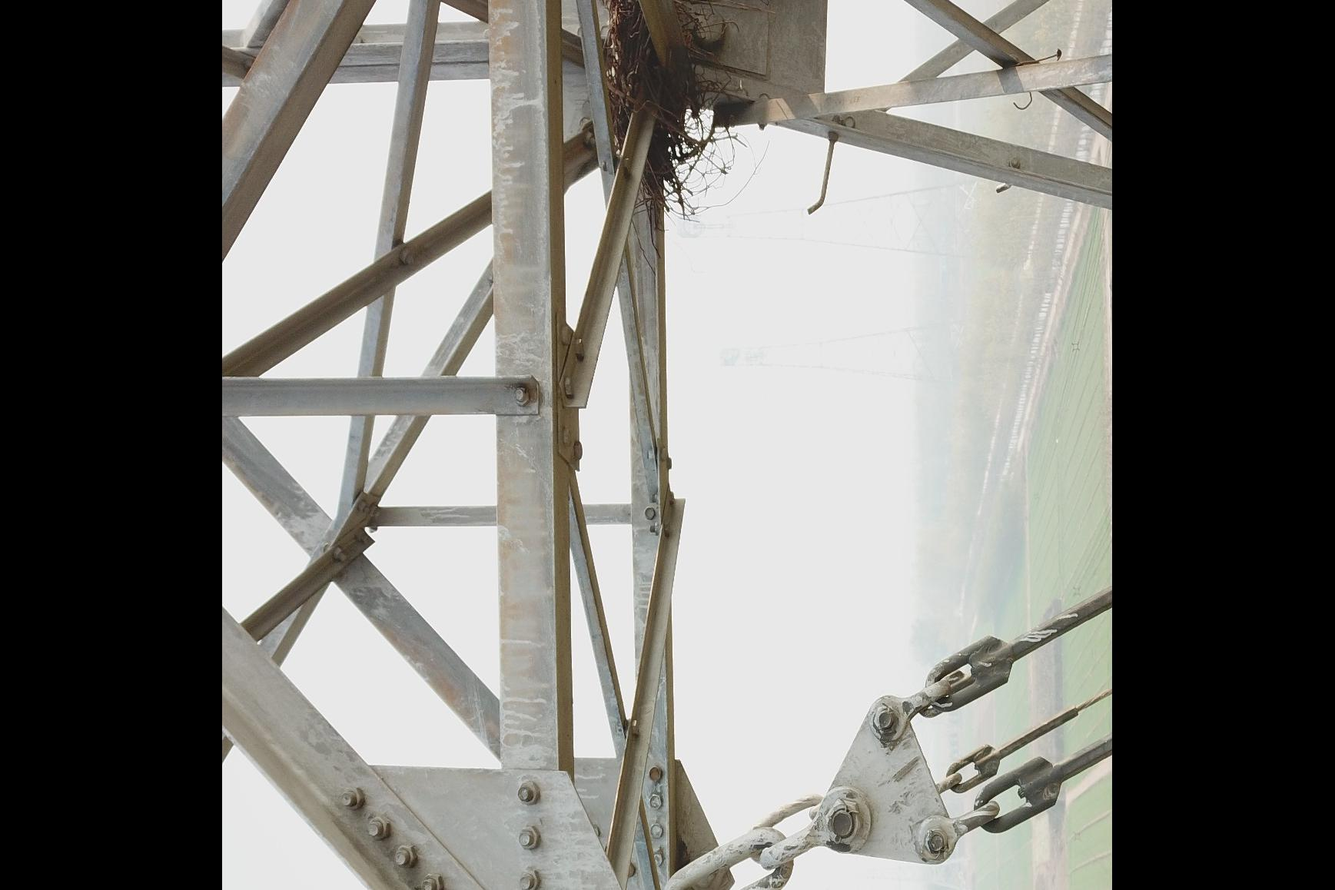nest: (591, 1, 748, 230)
